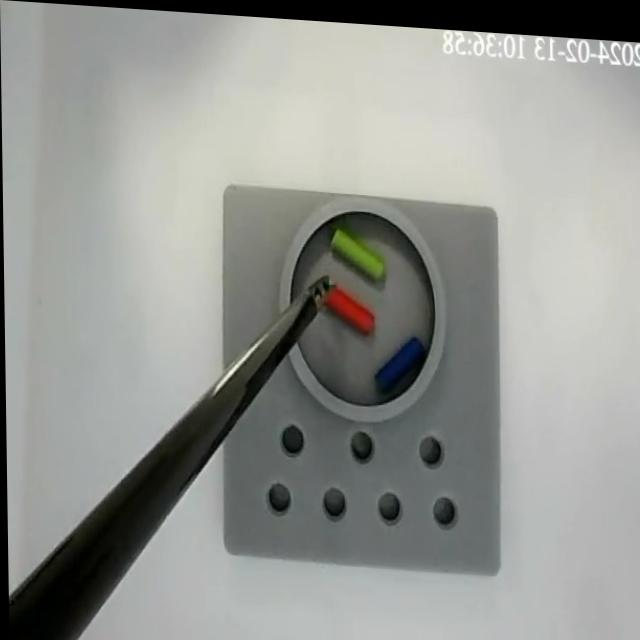EmptyHole: (263, 474, 292, 515), (416, 425, 443, 464), (376, 482, 402, 521), (278, 418, 305, 454), (320, 481, 347, 517), (348, 423, 373, 461), (430, 488, 455, 523)
